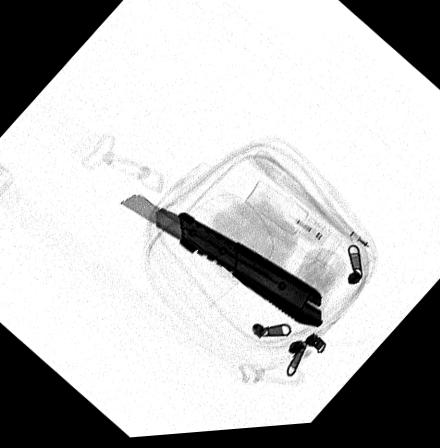Knife: (118, 193, 325, 333)
